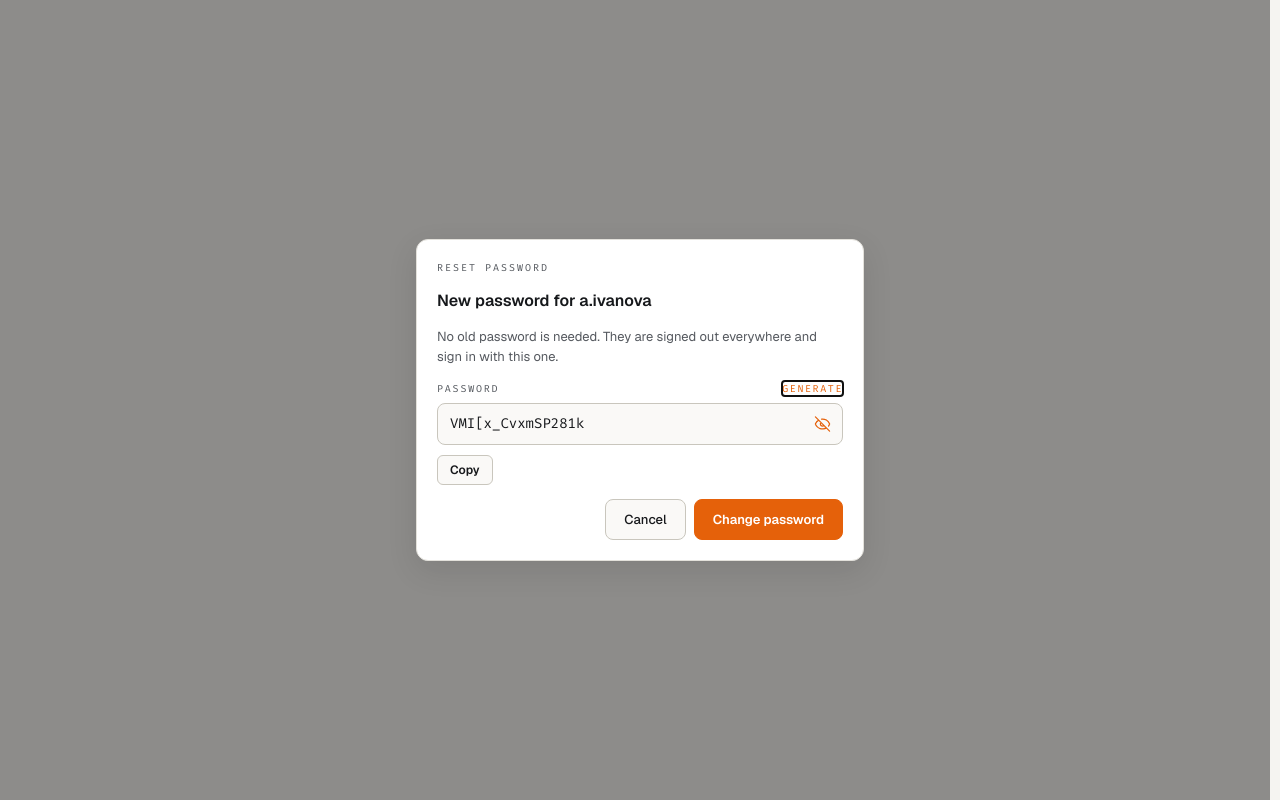
ResetPasswordDialog › refuses a weak typed password before the gateway does
This screenshot has width=1280, height=800.
Replace the text in the field labelled "Password" with "s3cret!!" at (640, 424), box [437,403,843,445]
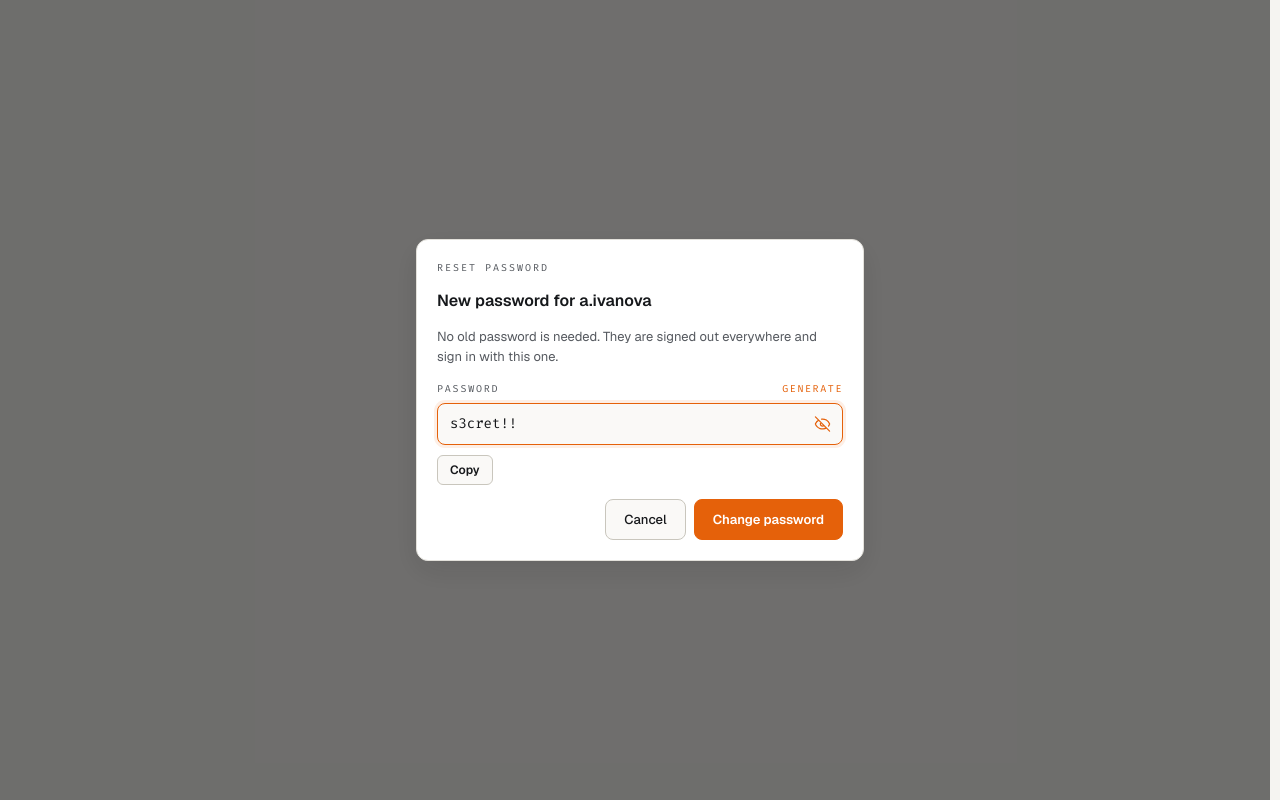
Click the button "Change password" at (768, 520), box [694,499,843,540]
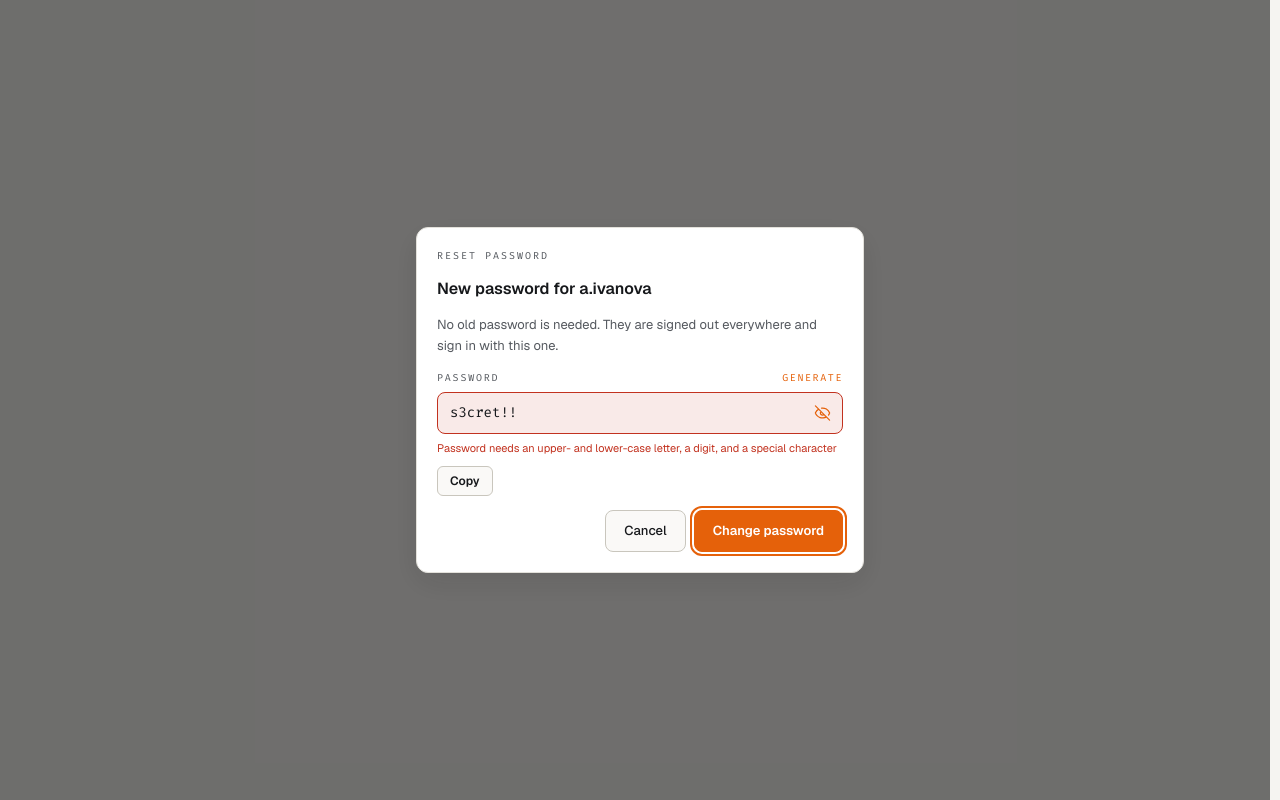
Check: the text "Password needs an upper-" is shown, box [437,441,837,455]
